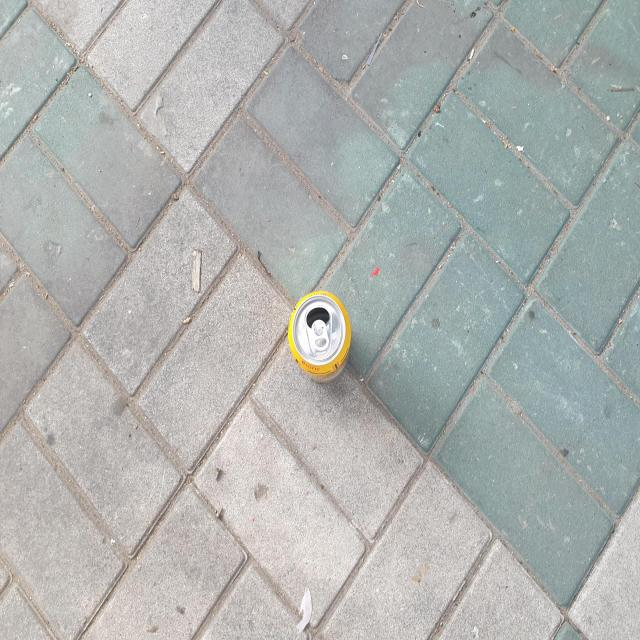can: (288, 291, 351, 382)
